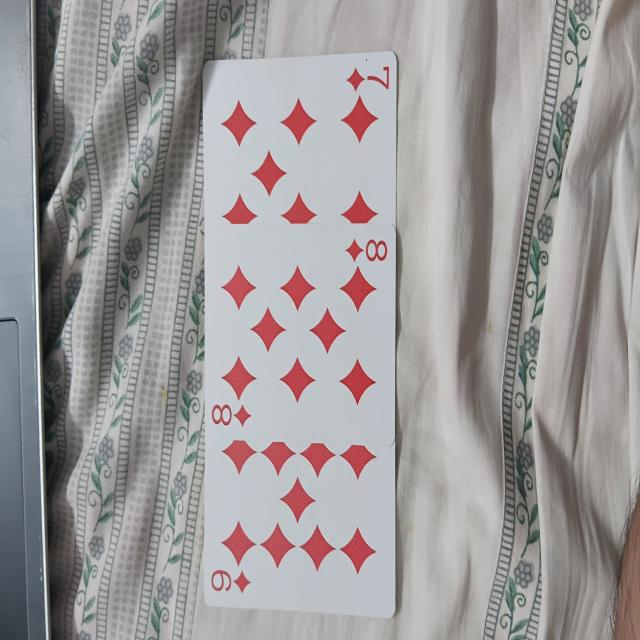8D: (208, 222, 398, 440)
